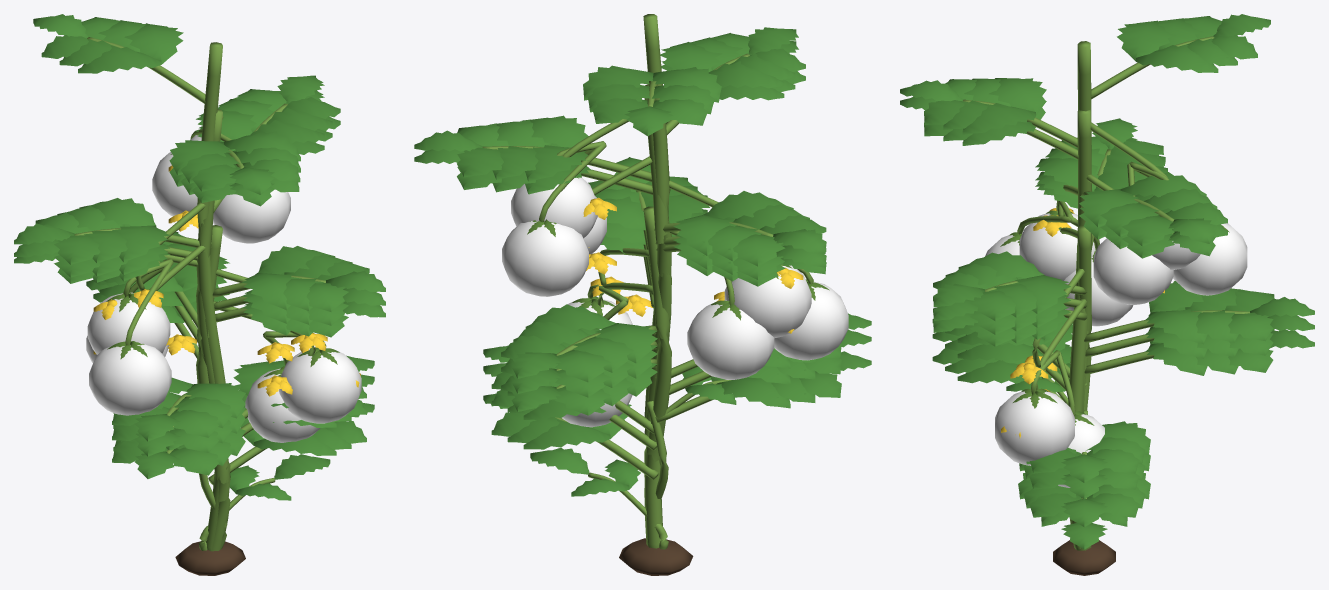
File: tomato-growth-v1.glb
3 views of the same model, side by side, from view 1: azimuth 30°, elevation 25°; view 2: azimuth 150°, elevation 25°; view 3: azimuth 270°, elevation 25° (orthographic). The views are drawn at different scales.
Visible parts, largest first — view 1: plant_fruit_TomatoLeaf, plant_fruit_TomatoFruit, plant_flower_TomatoLeaf, plant_foliage_TomatoLeaf, plant_fruit_TomatoStem, plant_flower_TomatoStem, plant_foliage_TomatoStem, plant_seedling_TomatoLeaf, plant_seed_RichSoil, plant_fruit_GoldenBlossom, plant_flower_GoldenBlossom, plant_fruit_FruitCalyx (+1 smaller); view 2: plant_fruit_TomatoLeaf, plant_fruit_TomatoFruit, plant_flower_TomatoLeaf, plant_foliage_TomatoLeaf, plant_fruit_TomatoStem, plant_flower_TomatoStem, plant_foliage_TomatoStem, plant_seedling_TomatoLeaf, plant_seed_RichSoil, plant_fruit_GoldenBlossom, plant_seedling_TomatoStem, plant_fruit_FruitCalyx; view 3: plant_fruit_TomatoLeaf, plant_fruit_TomatoFruit, plant_flower_TomatoLeaf, plant_foliage_TomatoLeaf, plant_fruit_TomatoStem, plant_flower_TomatoStem, plant_foliage_TomatoStem, plant_seedling_TomatoLeaf, plant_seed_RichSoil, plant_fruit_GoldenBlossom, plant_fruit_FruitCalyx.
Part boxes in pixels (box(x1,y1,x2,y2)): plant_fruit_TomatoLeaf: box(14, 14, 385, 441); plant_fruit_TomatoFruit: box(86, 135, 361, 442); plant_flower_TomatoLeaf: box(14, 90, 385, 456); plant_foliage_TomatoLeaf: box(14, 251, 385, 478); plant_fruit_TomatoStem: box(74, 37, 326, 550); plant_flower_TomatoStem: box(149, 109, 315, 551); plant_foliage_TomatoStem: box(163, 225, 266, 551); plant_seedling_TomatoLeaf: box(166, 407, 330, 500); plant_seed_RichSoil: box(175, 541, 245, 575); plant_fruit_GoldenBlossom: box(93, 165, 327, 363); plant_flower_GoldenBlossom: box(93, 210, 360, 396); plant_fruit_FruitCalyx: box(106, 154, 339, 377); plant_fruit_TomatoLeaf: box(414, 27, 871, 400); plant_fruit_TomatoFruit: box(502, 177, 848, 427); plant_flower_TomatoLeaf: box(414, 41, 871, 420); plant_foliage_TomatoLeaf: box(483, 235, 871, 449); plant_fruit_TomatoStem: box(482, 14, 813, 548); plant_flower_TomatoStem: box(556, 84, 712, 531); plant_foliage_TomatoStem: box(555, 206, 713, 543); plant_seedling_TomatoLeaf: box(530, 366, 760, 496); plant_seed_RichSoil: box(619, 538, 693, 575); plant_fruit_GoldenBlossom: box(583, 197, 803, 316); plant_seedling_TomatoStem: box(588, 379, 731, 517); plant_fruit_FruitCalyx: box(527, 177, 829, 320); plant_fruit_TomatoLeaf: box(900, 14, 1314, 482); plant_fruit_TomatoFruit: box(985, 213, 1247, 487); plant_flower_TomatoLeaf: box(900, 96, 1314, 498); plant_foliage_TomatoLeaf: box(932, 183, 1314, 527); plant_fruit_TomatoStem: box(963, 36, 1249, 549); plant_flower_TomatoStem: box(1026, 109, 1173, 549); plant_foliage_TomatoStem: box(1050, 225, 1154, 550); plant_seedling_TomatoLeaf: box(995, 358, 1127, 549); plant_seed_RichSoil: box(1053, 540, 1115, 575); plant_fruit_GoldenBlossom: box(1010, 208, 1074, 384); plant_fruit_FruitCalyx: box(1000, 210, 1229, 425).
Bounding box in the file's own units: 1.09 × 1.58 × 1.12.
